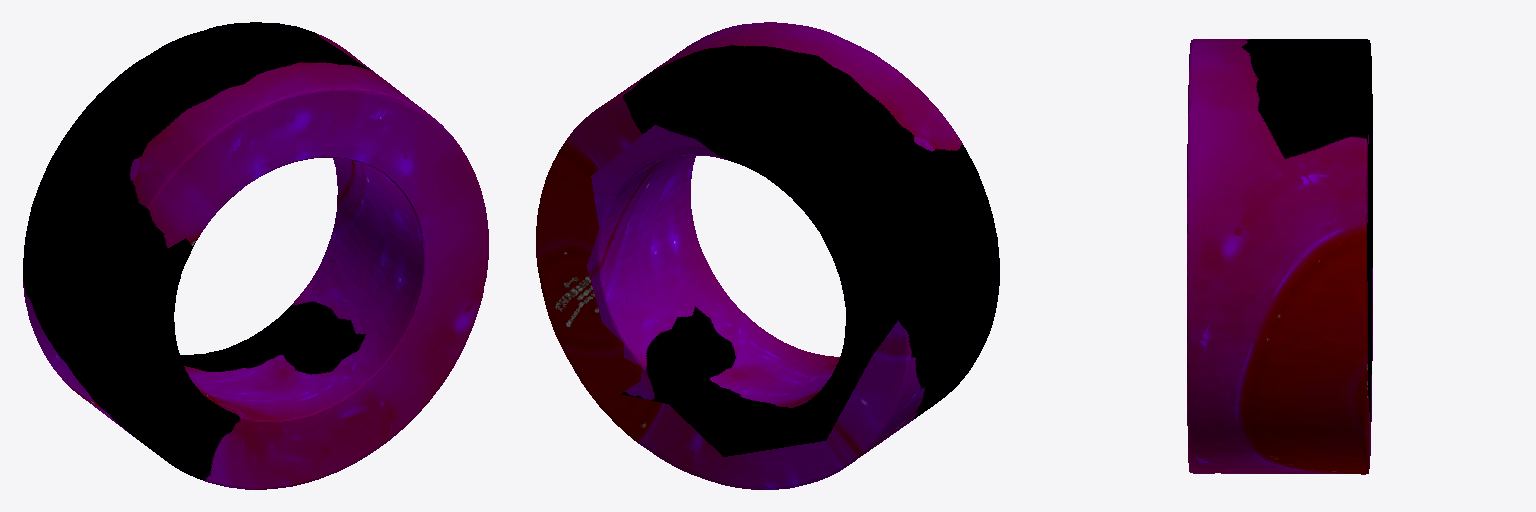
3 renders of one model, left to right at view 1: azimuth 30°, elevation 25°; view 2: azimuth 150°, elevation 25°; view 3: azimuth 270°, elevation 25°, orthographic.
Parts seen in each view (by area): view 1: model.010; view 2: model.010; view 3: model.010.
Boxes of the visible parts, x1=… form: model.010: x1=23, y1=22, x2=488, y2=489; model.010: x1=536, y1=22, x2=999, y2=489; model.010: x1=1187, y1=39, x2=1372, y2=474.
Bounding box in the file's own units: 0.1181 × 0.117 × 0.0502.
Materials: 1 (1 with a texture image).